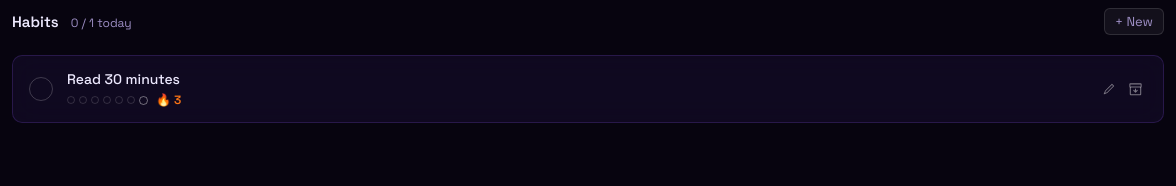
Test case: habit history heatmap › shows the best streak in the expanded panel
The width and height of the screenshot is (1176, 186).
Click the button named "toggle completion history" at point(71, 100), box [67,92,1083,108]
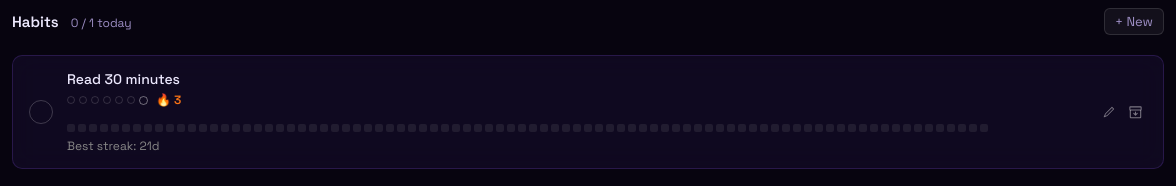
Expected: the text with class "habit-card-best" reads "Best streak: 21d", [67,138,159,154]
